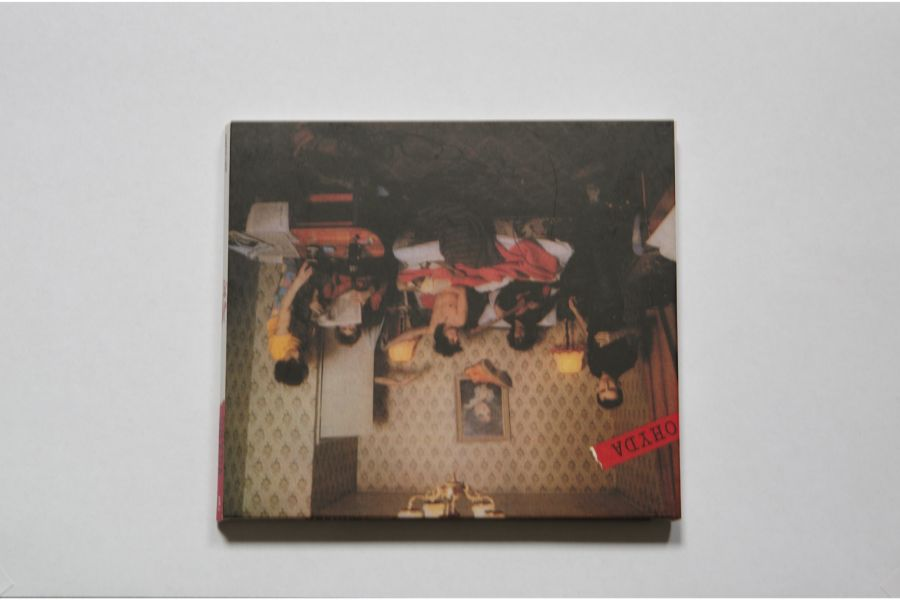album: (216, 119, 681, 524)
